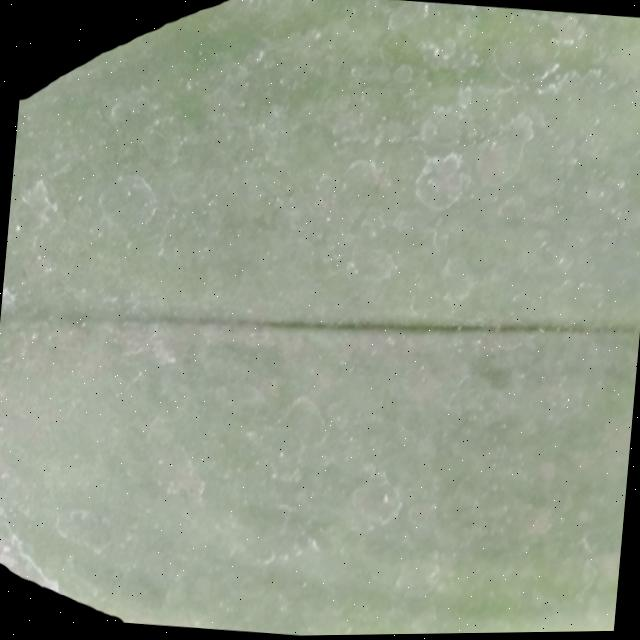mite: (450, 334, 534, 416), (488, 30, 560, 89), (481, 366, 513, 391), (389, 62, 416, 88)
